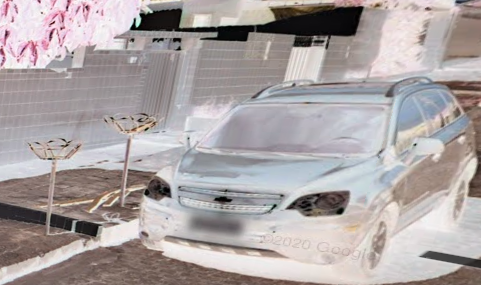car: (141, 65, 478, 276)
